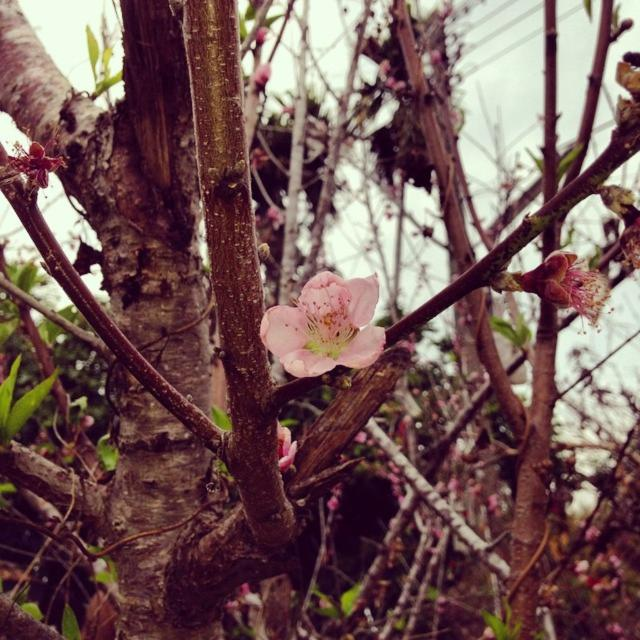Flower: (270, 266, 380, 380), (511, 245, 621, 339), (0, 126, 68, 202), (272, 424, 298, 476)
